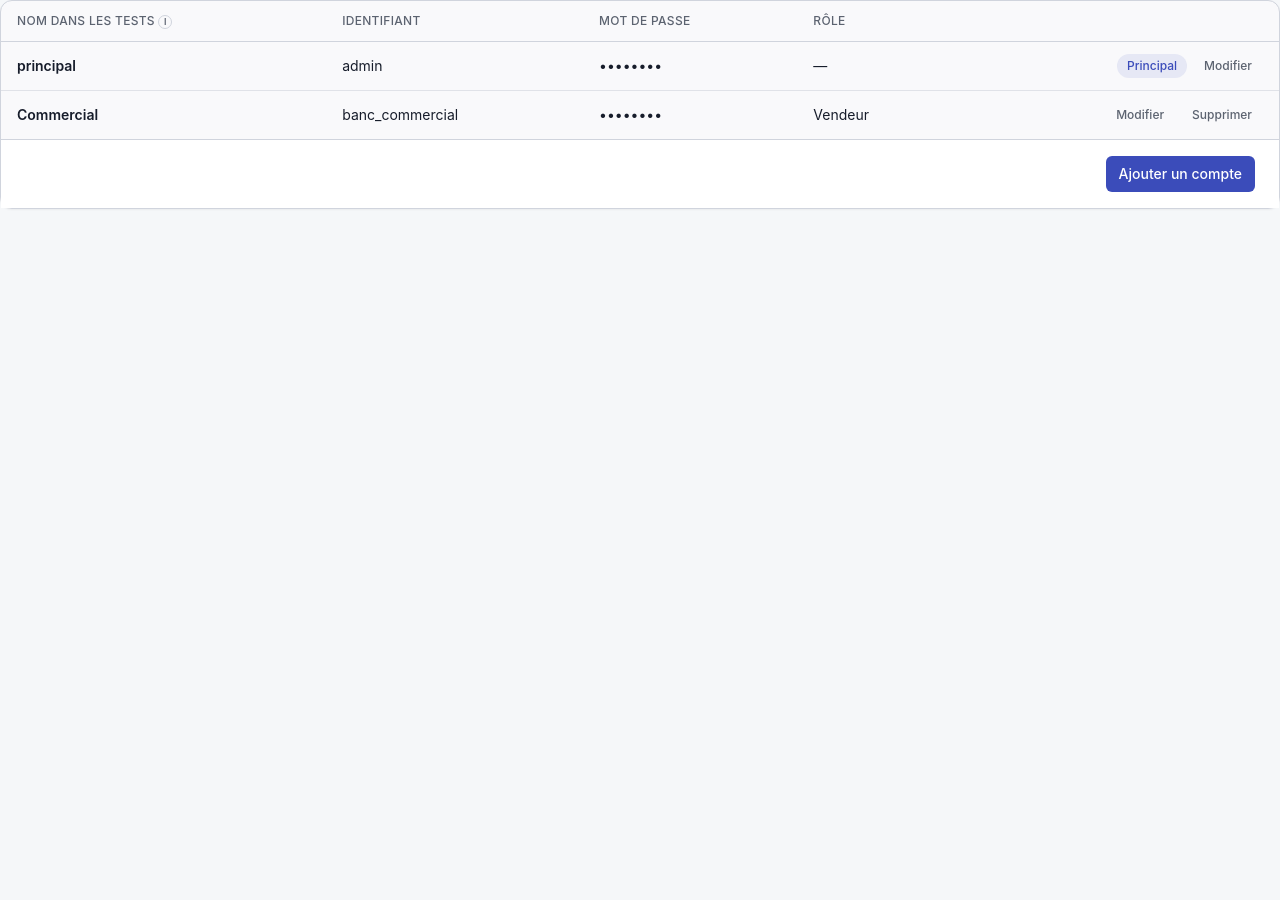
Test: Paramètres de test — onglet Comptes, compte principal › montre le refus du serveur et garde la fenêtre ouverte
The image size is (1280, 900).
Click the button with test id "principal-modifier". click: x=1228, y=66
box: [1193, 50, 1263, 82]
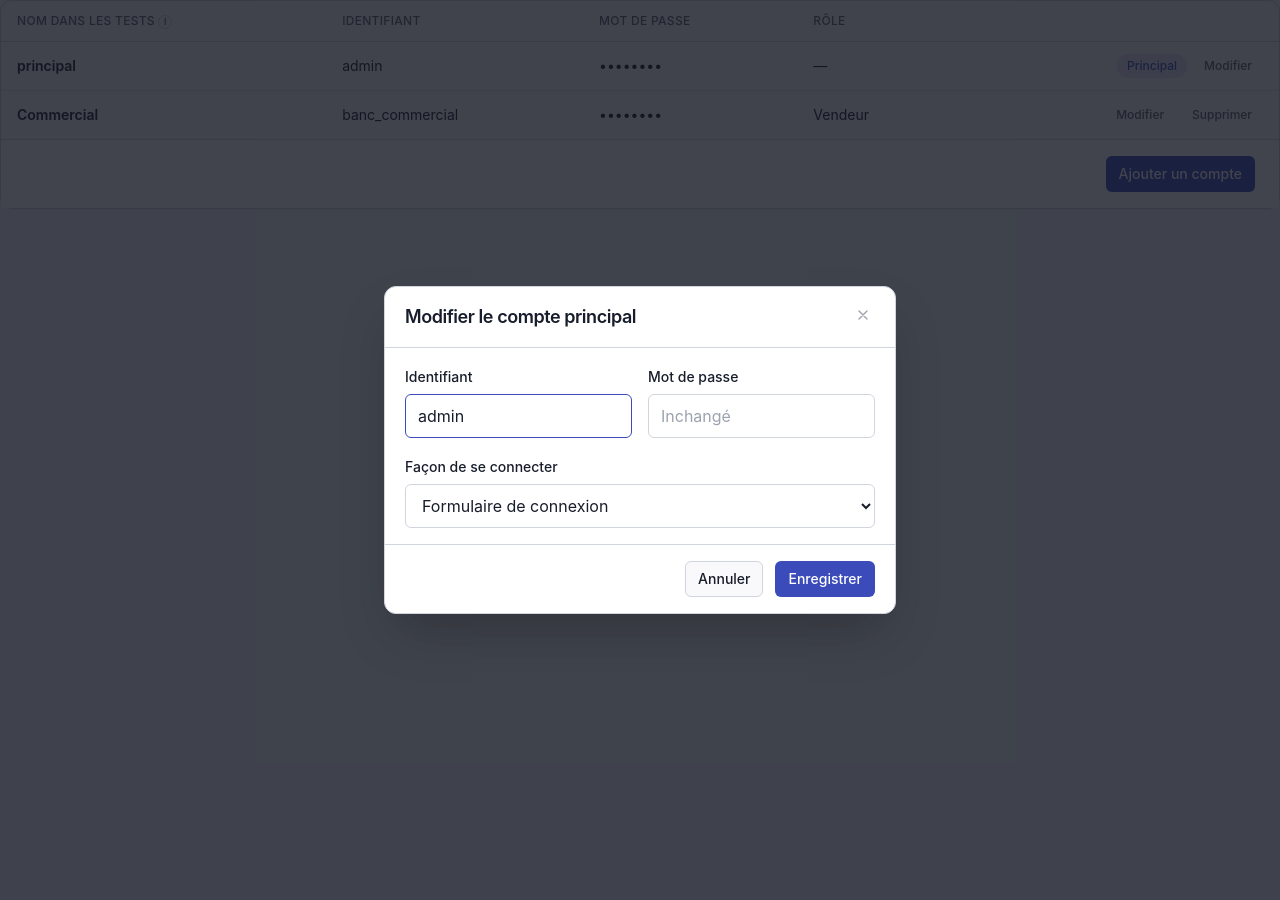
Submit the form with test id "principal-formulaire", box [405, 364, 875, 528]
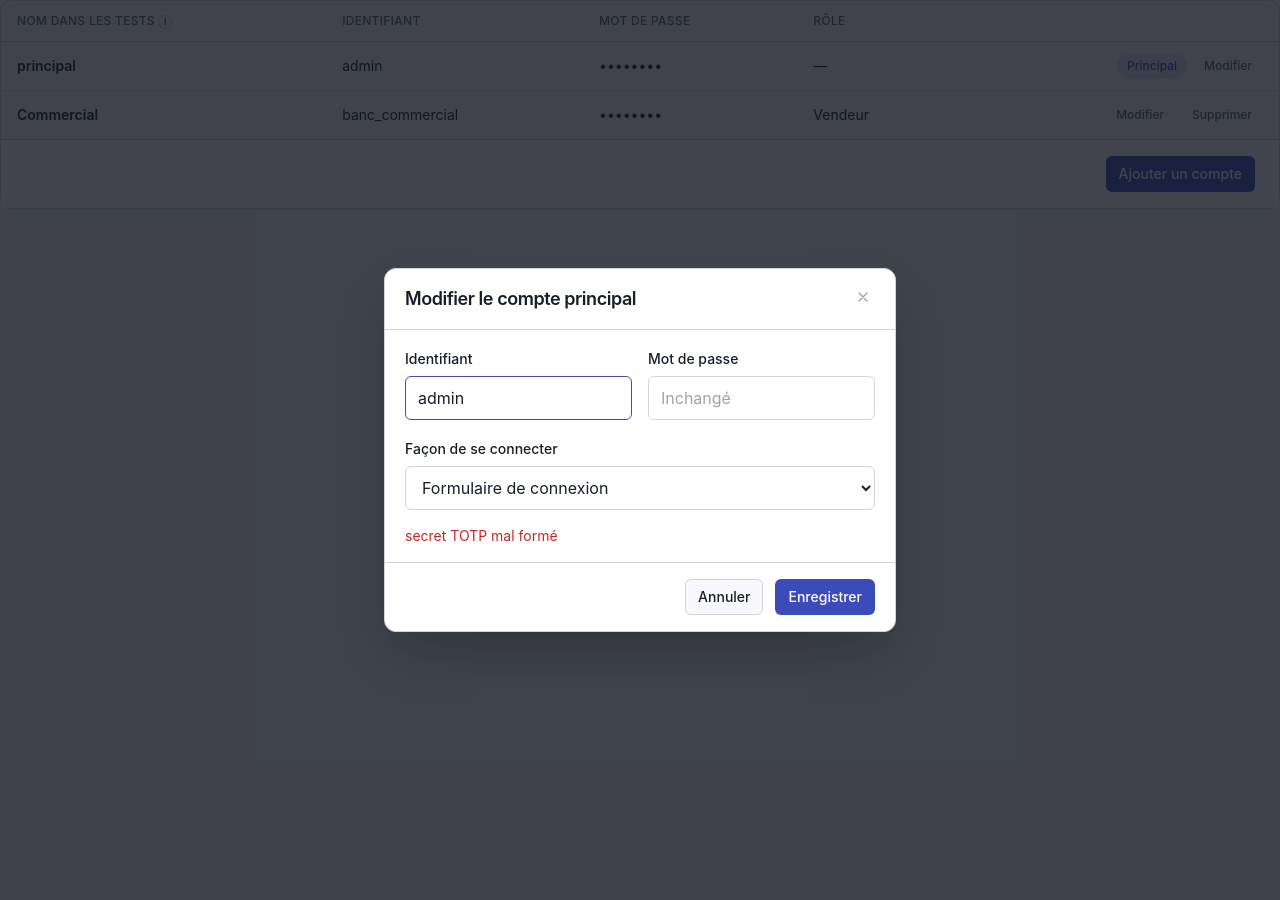
Expected: the form with test id "principal-formulaire" is shown, [405, 346, 875, 546]
Expected: the message "secret TOTP mal formé" is shown, [405, 527, 558, 544]
